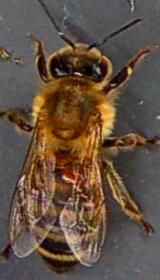varroa_mite: (56, 156, 94, 190)
